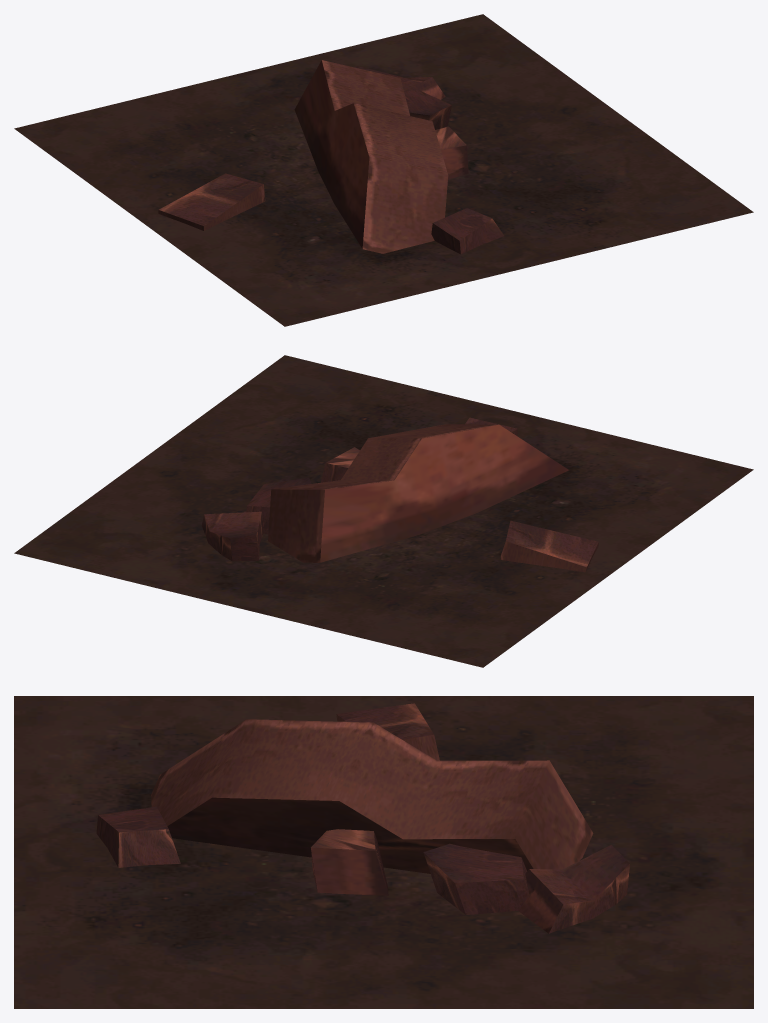
The model's file is lava_rubble_02.fbx.
The picture shows the model from 3 angles, top to bottom: view 1: azimuth 30°, elevation 25°; view 2: azimuth 150°, elevation 25°; view 3: azimuth 270°, elevation 25°; orthographic projection. The views are drawn at different scales.
Parts seen in each view (by area): view 1: lava_rubble_02-0; view 2: lava_rubble_02-0; view 3: lava_rubble_02-0.
Part boxes in pixels (x1,y1,x2,y2): lava_rubble_02-0: (14,14,753,326); lava_rubble_02-0: (14,355,753,667); lava_rubble_02-0: (14,696,753,1008).
Size of the model in its own units: 4 by 1.04 by 4.
